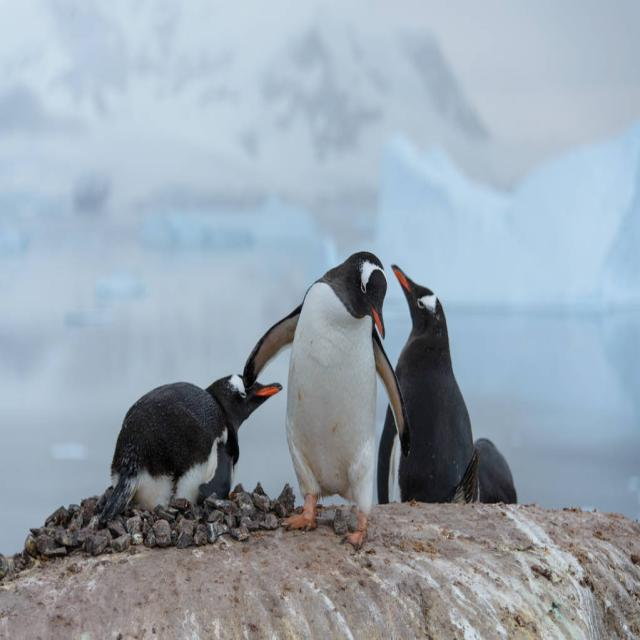Penguins: (278, 233, 382, 550), (102, 362, 284, 508), (390, 251, 476, 535)
